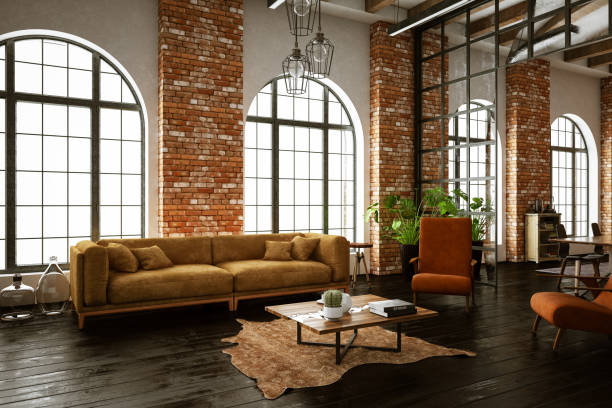chair: (407, 212, 477, 313), (529, 271, 612, 353)
large plant: (380, 185, 419, 278)
small plant: (319, 287, 345, 320)
sofa: (67, 232, 352, 331)
table: (265, 292, 439, 365)
